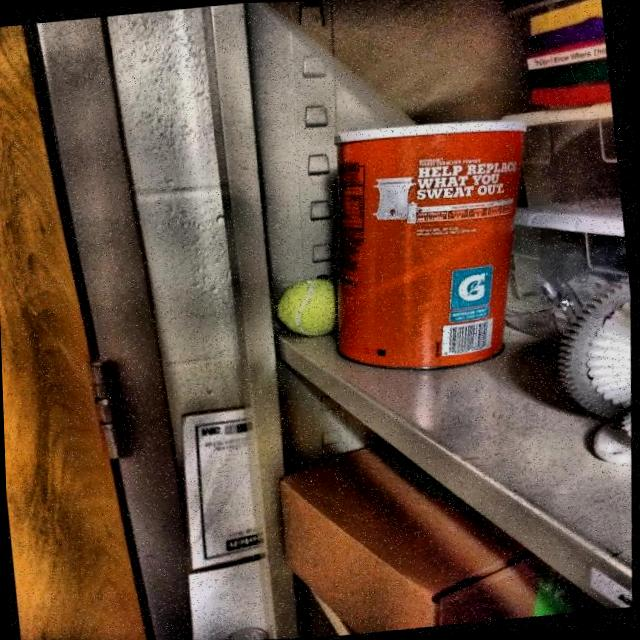tennis-ball: (266, 272, 364, 350)
